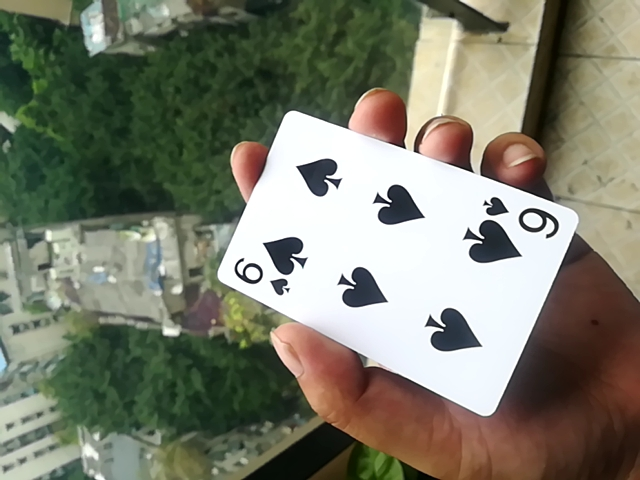ht 6: (220, 116, 585, 424)
